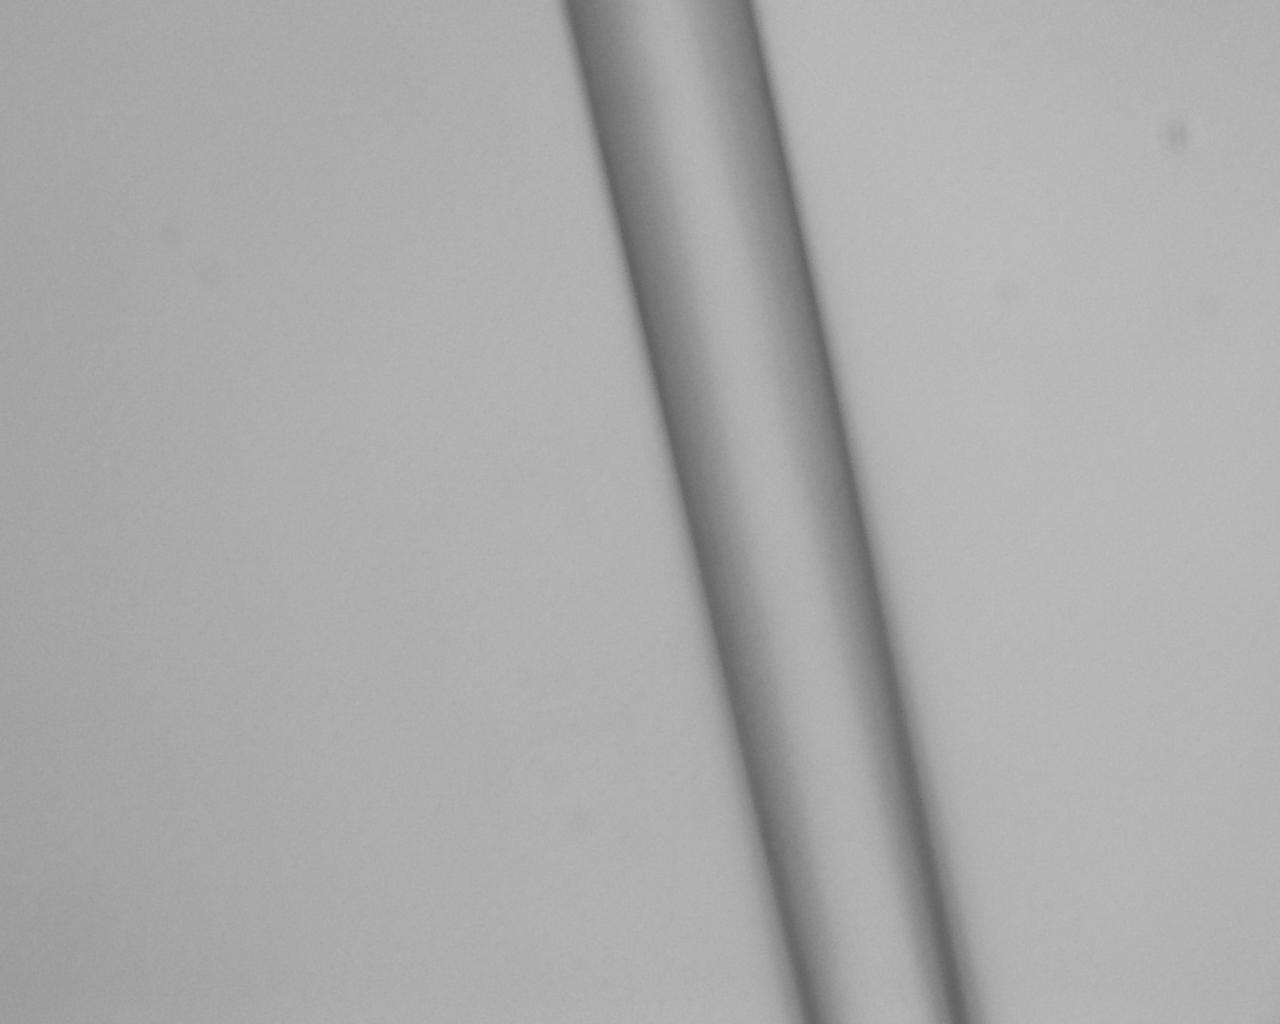fiber: (127, 416, 1151, 471)
